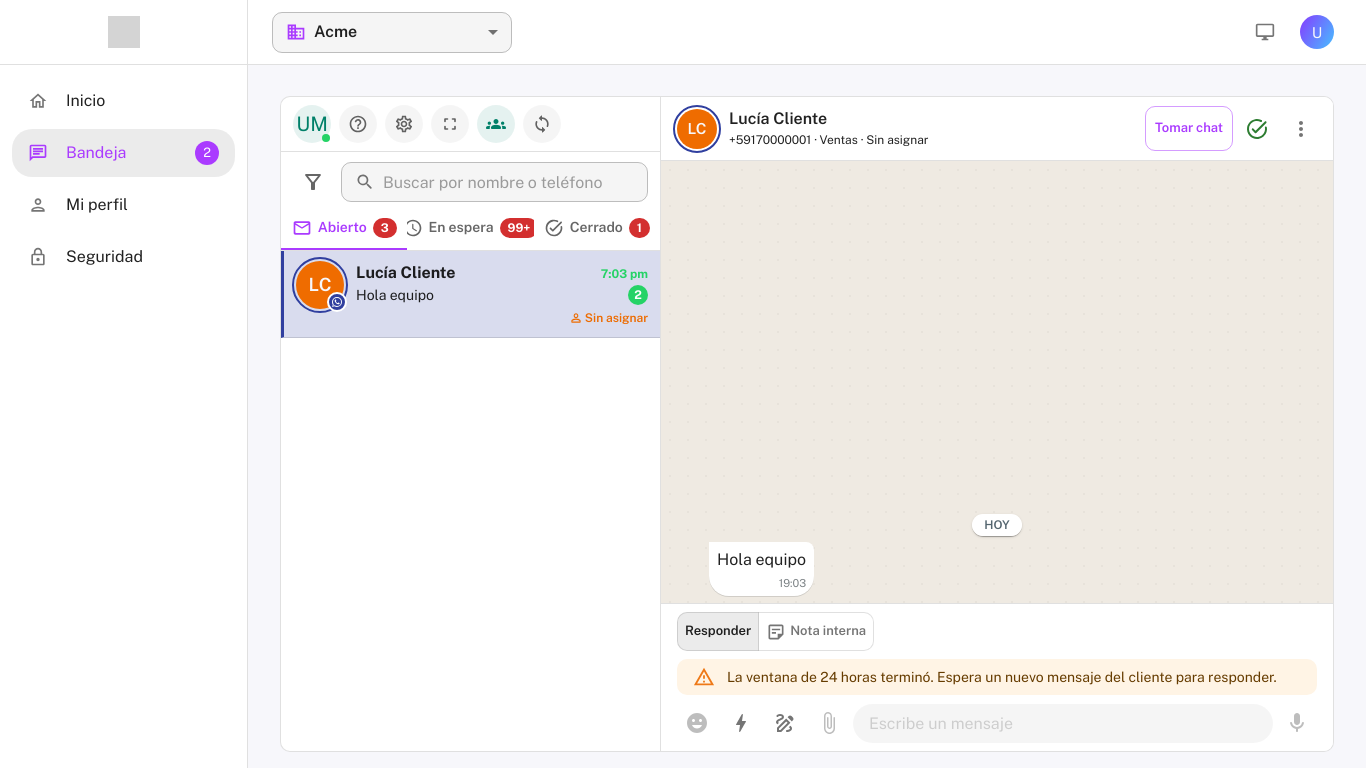
Test case: Inbox › blocks expired replies while allowing internal notes
(page scrolled)
Expected: the text box named "Escribir respuesta" is disabled, [869,712,1257,735]
Click the button "Nota interna" at [816, 632], box [758,612,874,651]
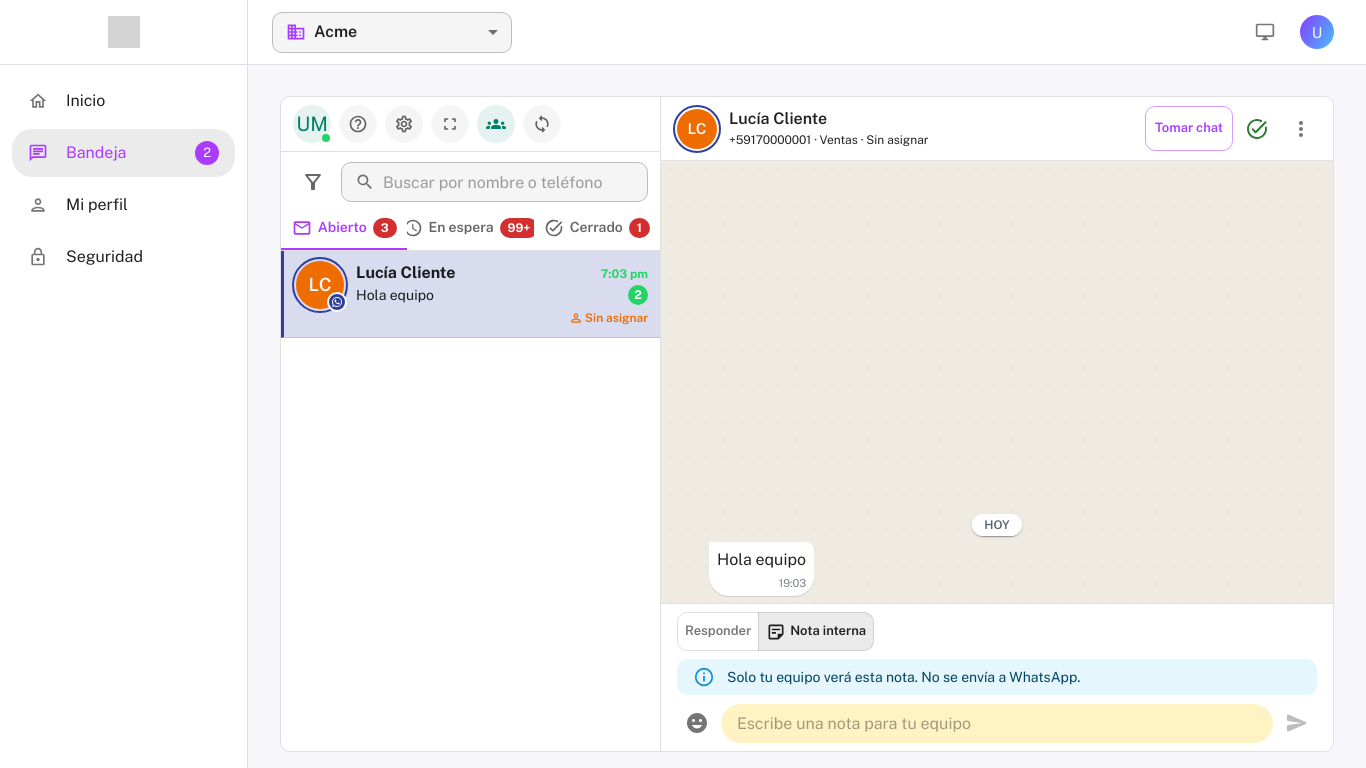
Expected: the text box named "Escribir nota interna" is enabled, [737,712,1257,735]
